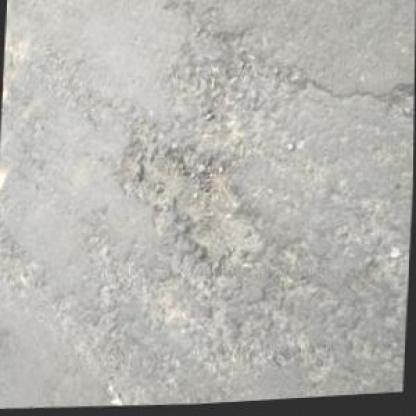pothole: (108, 108, 269, 282)
